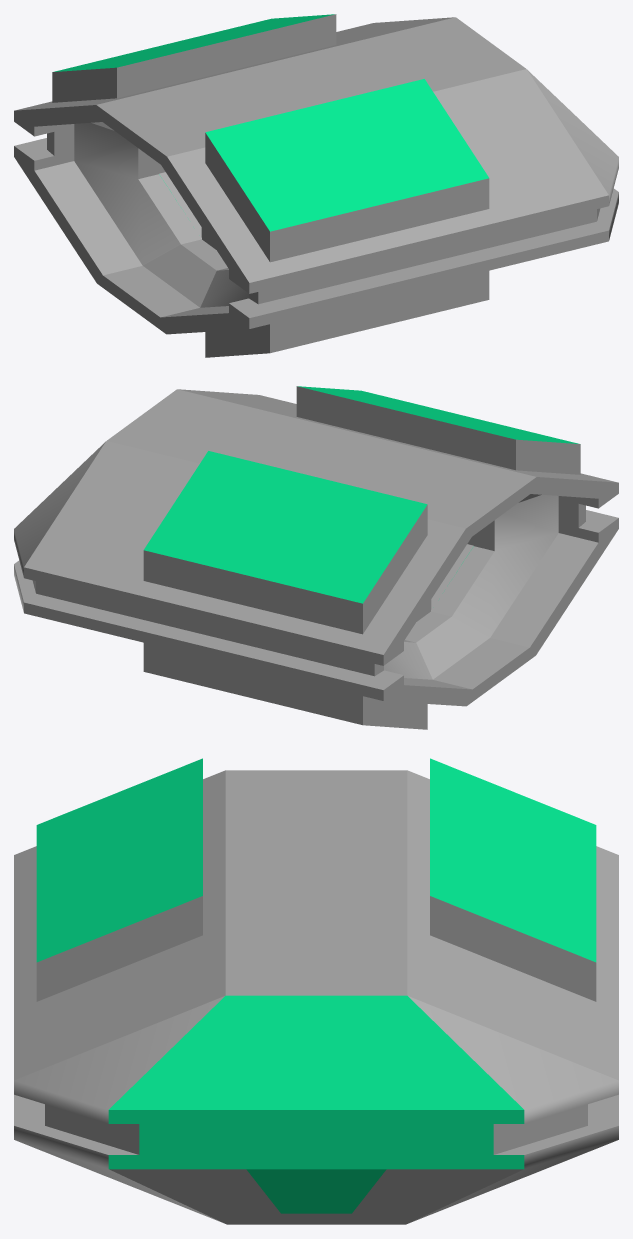
File: SM_FrigateHullEngine.fbx
3 renders of one model, top to bottom at view 1: azimuth 30°, elevation 25°; view 2: azimuth 150°, elevation 25°; view 3: azimuth 270°, elevation 25°, orthographic. The views are drawn at different scales.
Visible parts, largest first — view 1: polySurface43; view 2: polySurface43; view 3: polySurface43.
Boxes of the visible parts, x1,y1,x2,y2 form: polySurface43: (14,14,618,357); polySurface43: (14,386,618,729); polySurface43: (14,758,618,1224).
Size of the model in its own units: 2577 by 1367 by 2586.
